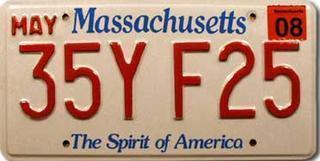placa de veiculo: (1, 2, 315, 157)
